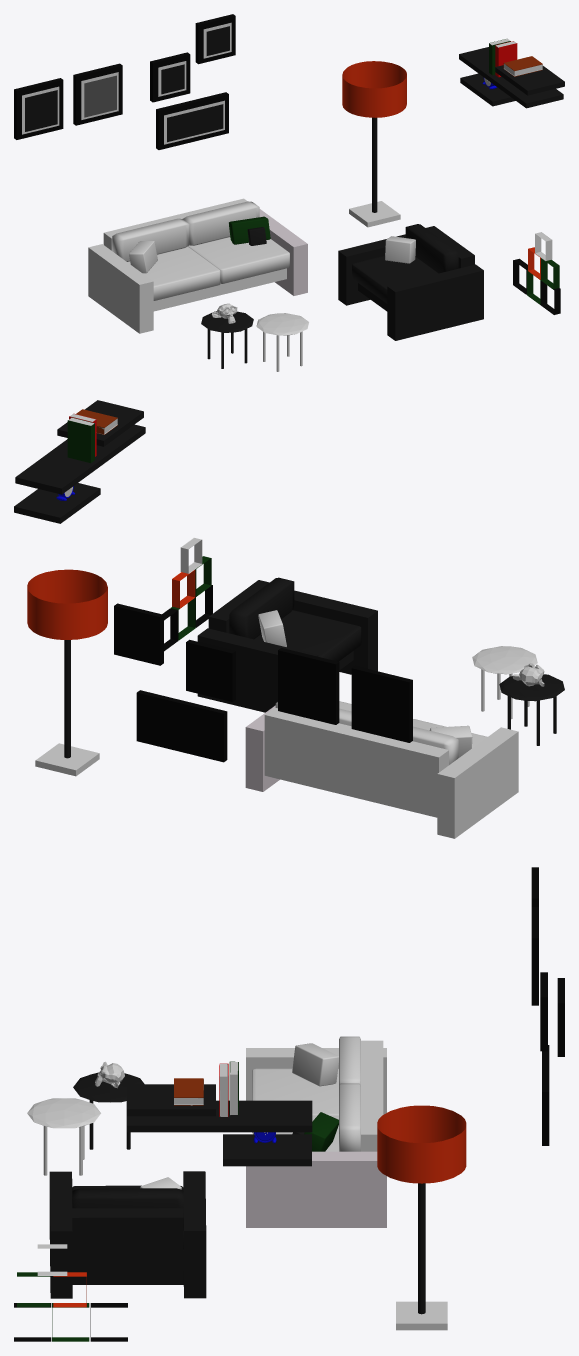
File: quarto-macaco.obj
3 views of the same model, one above another, from view 1: azimuth 30°, elevation 25°; view 2: azimuth 150°, elevation 25°; view 3: azimuth 270°, elevation 25° (orthographic). The views are drawn at different scales.
Parts seen in each view (by area): view 1: Cube.014_Cube.044, Cube.026_Cube.065, Surface_Surface.003, Cube.015_Cube.071, Cube.030_Cube.069, Cube.031_Cube.073, Cube.029_Cube.068, Cube.018_Cube.060, Cube.024_Cube.063, Cube.020_Cube.072, Cube.033_Cube.078, Cube.007_Cube.049 (+24 smaller); view 2: Cube.025_Cube.064, Cube.026_Cube.065, Surface_Surface.003, Cube.049_Cube.111, Cube.016_Cube.107, Cube.046_Cube.108, Cube.020_Cube.072, Cube.033_Cube.078, Cube.031_Cube.073, Cube.014_Cube.044, Cube.048_Cube.110, Cube.047_Cube.109 (+15 smaller); view 3: Cube.024_Cube.063, Cube.010_Cube.047, Surface_Surface.003, Cube.033_Cube.078, Cube.020_Cube.072, Cube.014_Cube.044, Cube.009_Cube.075, Cube.030_Cube.069, Cube.025_Cube.064, Cube.007_Cube.049, Cube.017_Cube.092, Icosphere_Icosphere.003 (+13 smaller).
Boxes of the visible parts, x1,y1,x2,y2 form: Cube.014_Cube.044: [387, 264, 483, 340]; Cube.026_Cube.065: [88, 244, 153, 333]; Surface_Surface.003: [342, 61, 406, 117]; Cube.015_Cube.071: [188, 237, 289, 283]; Cube.030_Cube.069: [127, 246, 220, 300]; Cube.031_Cube.073: [352, 255, 437, 303]; Cube.029_Cube.068: [112, 218, 189, 261]; Cube.018_Cube.060: [183, 201, 259, 245]; Cube.024_Cube.063: [259, 209, 307, 295]; Cube.020_Cube.072: [338, 234, 405, 305]; Cube.033_Cube.078: [459, 47, 563, 108]; Cube.007_Cube.049: [405, 224, 458, 273]; Cube.025_Cube.064: [264, 707, 448, 817]; Cube.026_Cube.065: [437, 727, 518, 838]; Surface_Surface.003: [27, 569, 107, 639]; Cube.049_Cube.111: [136, 690, 227, 762]; Cube.016_Cube.107: [351, 666, 412, 742]; Cube.046_Cube.108: [278, 648, 339, 724]; Cube.020_Cube.072: [197, 628, 318, 712]; Cube.033_Cube.078: [15, 424, 145, 494]; Cube.031_Cube.073: [254, 610, 361, 661]; Cube.014_Cube.044: [293, 590, 377, 674]; Cube.048_Cube.110: [114, 603, 163, 665]; Cube.047_Cube.109: [186, 639, 235, 701]; Cube.024_Cube.063: [246, 1151, 386, 1227]; Cube.010_Cube.047: [72, 1208, 183, 1284]; Surface_Surface.003: [377, 1105, 466, 1183]; Cube.033_Cube.078: [127, 1100, 312, 1132]; Cube.020_Cube.072: [183, 1171, 206, 1298]; Cube.014_Cube.044: [49, 1171, 72, 1298]; Cube.009_Cube.075: [223, 1134, 311, 1166]; Cube.030_Cube.069: [252, 1068, 338, 1133]; Cube.025_Cube.064: [361, 1040, 383, 1151]; Cube.007_Cube.049: [72, 1188, 183, 1227]; Cube.017_Cube.092: [127, 1084, 215, 1116]; Icosphere_Icosphere.003: [27, 1098, 100, 1128].
Bounding box in the file's own units: 17.16 × 8.61 × 14.85.
